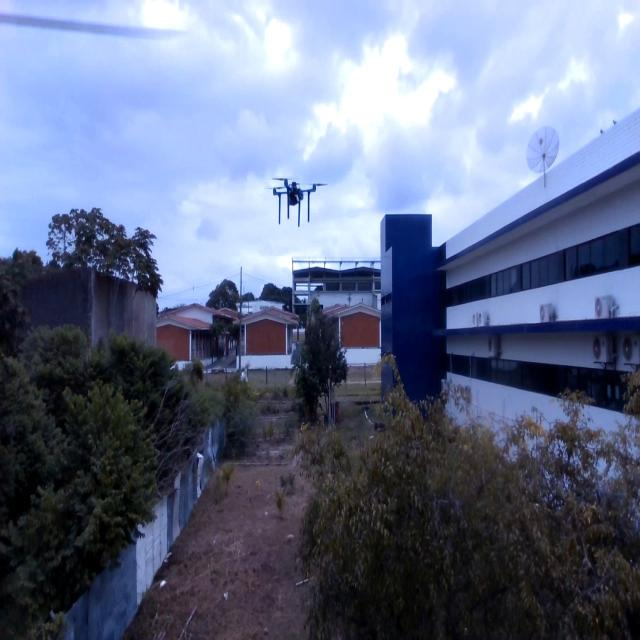-uav-: (263, 166, 332, 234)
